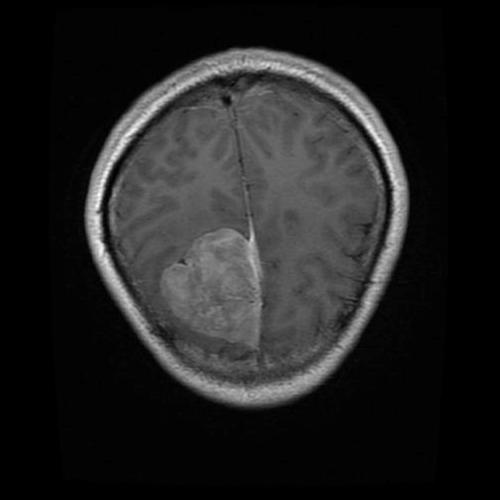Tumour-Meningioma: (153, 213, 284, 359)
